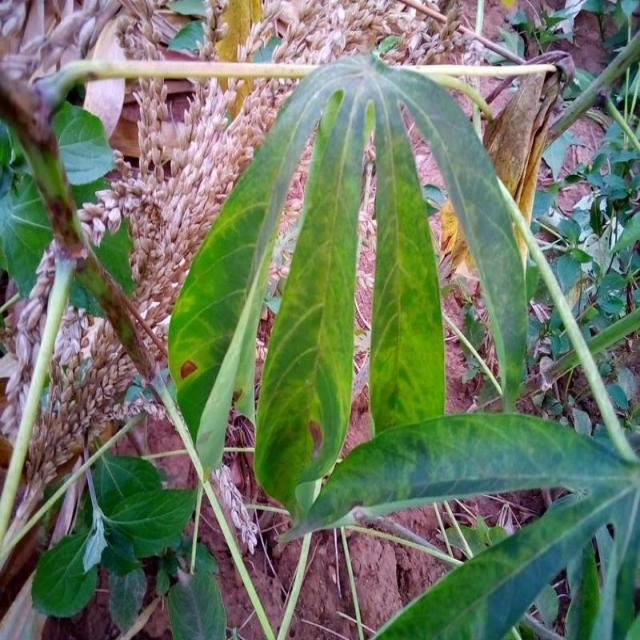cassava leaf: (166, 51, 532, 511), (275, 410, 638, 544)
